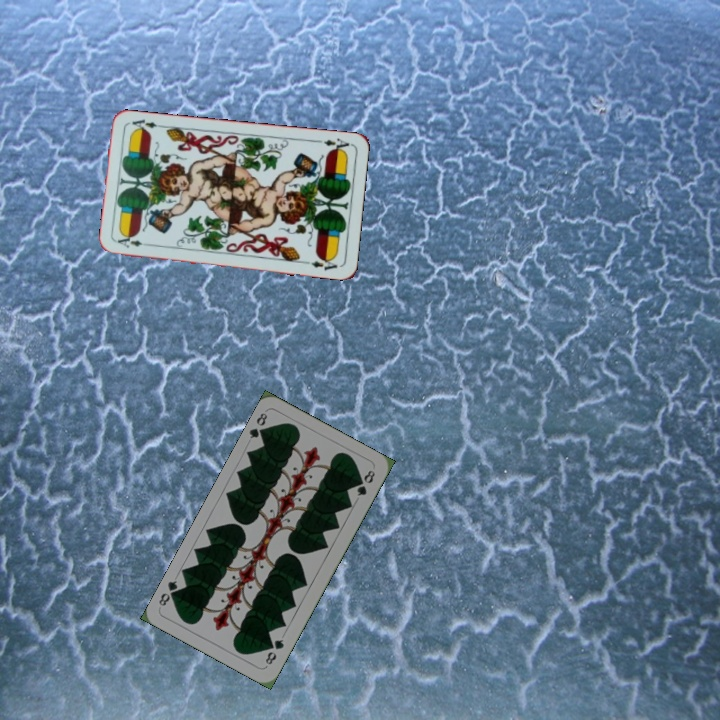EA: (313, 134, 353, 154), (113, 234, 145, 250)
G8: (261, 635, 286, 667), (245, 409, 270, 441)
